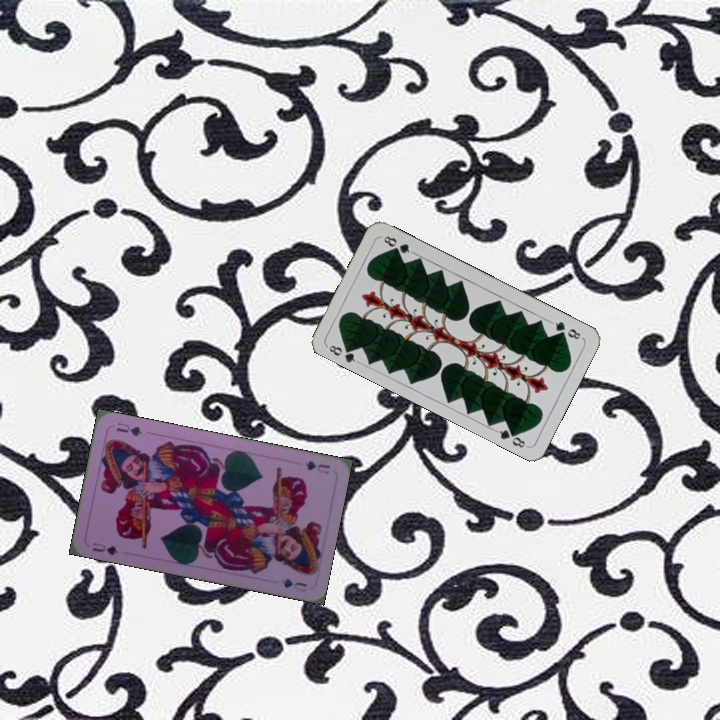G8: (323, 340, 361, 366), (547, 317, 585, 342)
GU: (88, 538, 121, 558), (301, 456, 332, 477)
